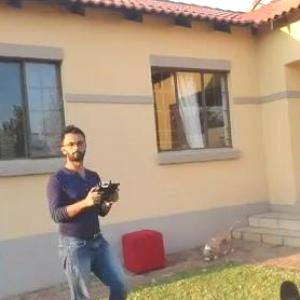follow: (44, 116, 135, 299)
null: (200, 218, 245, 267), (277, 274, 300, 299)
